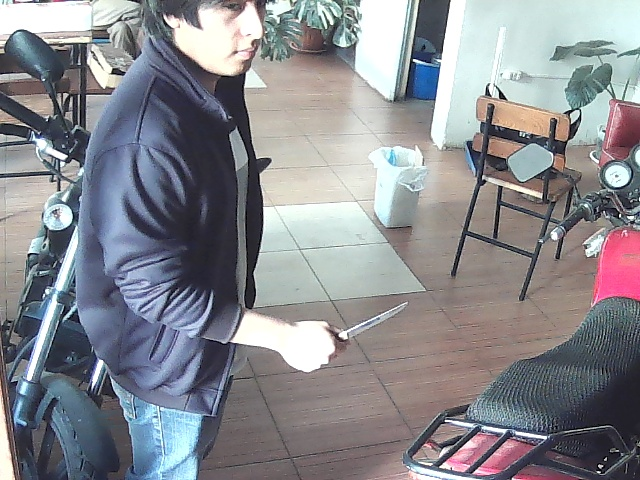cuchillo: (279, 292, 415, 380)
